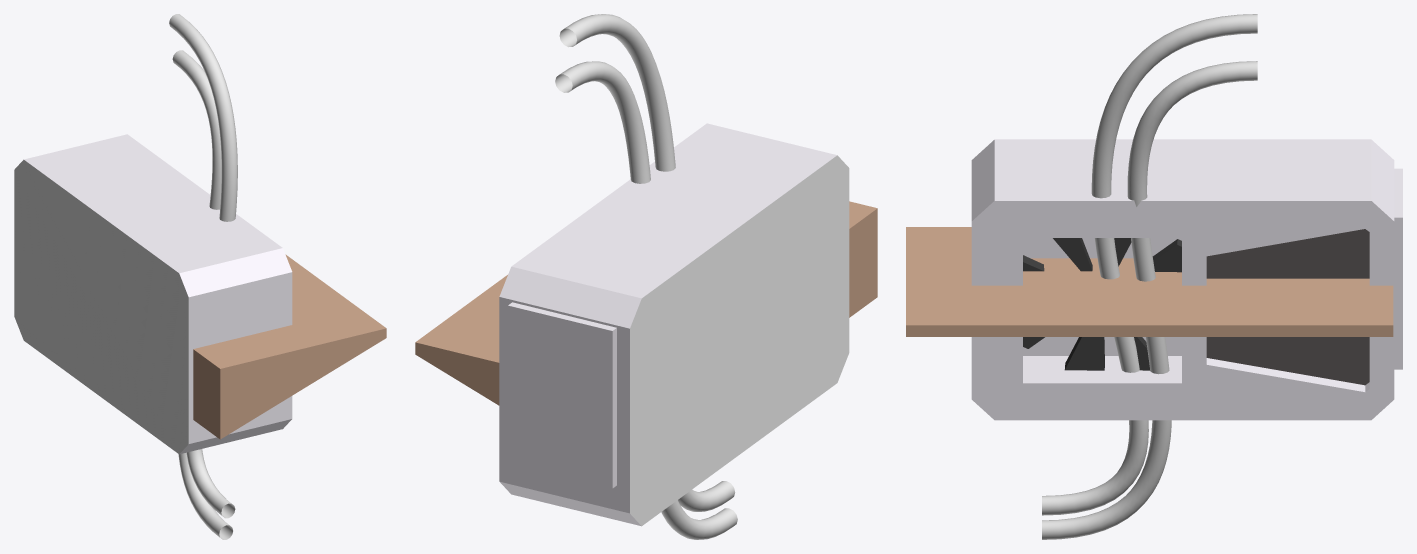
The model's file is Air Conditioner Ext.fbx.
3 renders of one model, left to right at view 1: azimuth 30°, elevation 25°; view 2: azimuth 150°, elevation 25°; view 3: azimuth 270°, elevation 25°, orthographic. The views are drawn at different scales.
Parts seen in each view (by area): view 1: Air conditioner 1, stent, Curve.005; view 2: Air conditioner 1, Curve.005, stent; view 3: Air conditioner 1, stent, Curve.005, Air conditioner 1.002.
Boxes of the visible parts, x1=… form: Air conditioner 1: x1=14, y1=134, x2=292, y2=454; stent: x1=193, y1=254, x2=386, y2=439; Curve.005: x1=169, y1=14, x2=237, y2=539; Air conditioner 1: x1=499, y1=123, x2=849, y2=526; Curve.005: x1=555, y1=14, x2=737, y2=539; stent: x1=415, y1=201, x2=877, y2=405; Air conditioner 1: x1=971, y1=139, x2=1402, y2=420; stent: x1=906, y1=227, x2=1393, y2=336; Curve.005: x1=1042, y1=14, x2=1257, y2=539; Air conditioner 1.002: x1=1023, y1=238, x2=1181, y2=370.
Bounding box in the file's own units: 435 × 1096 × 902.
